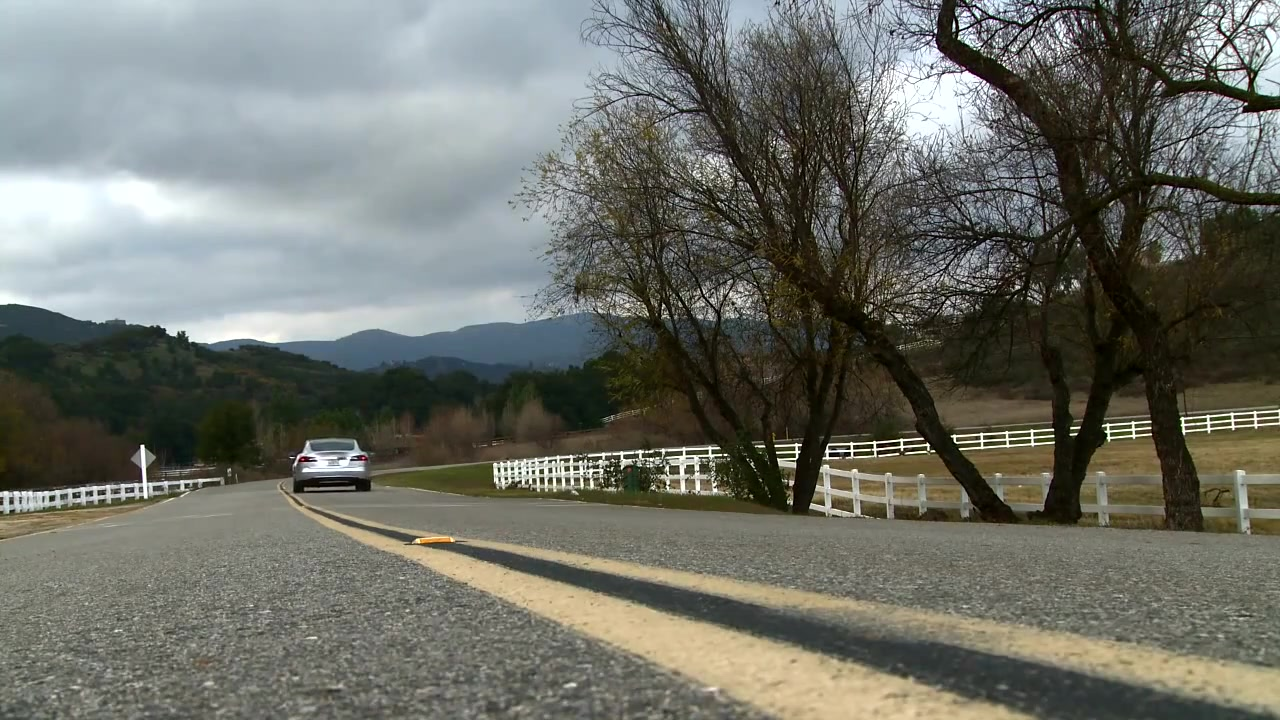car: (292, 436, 375, 496)
